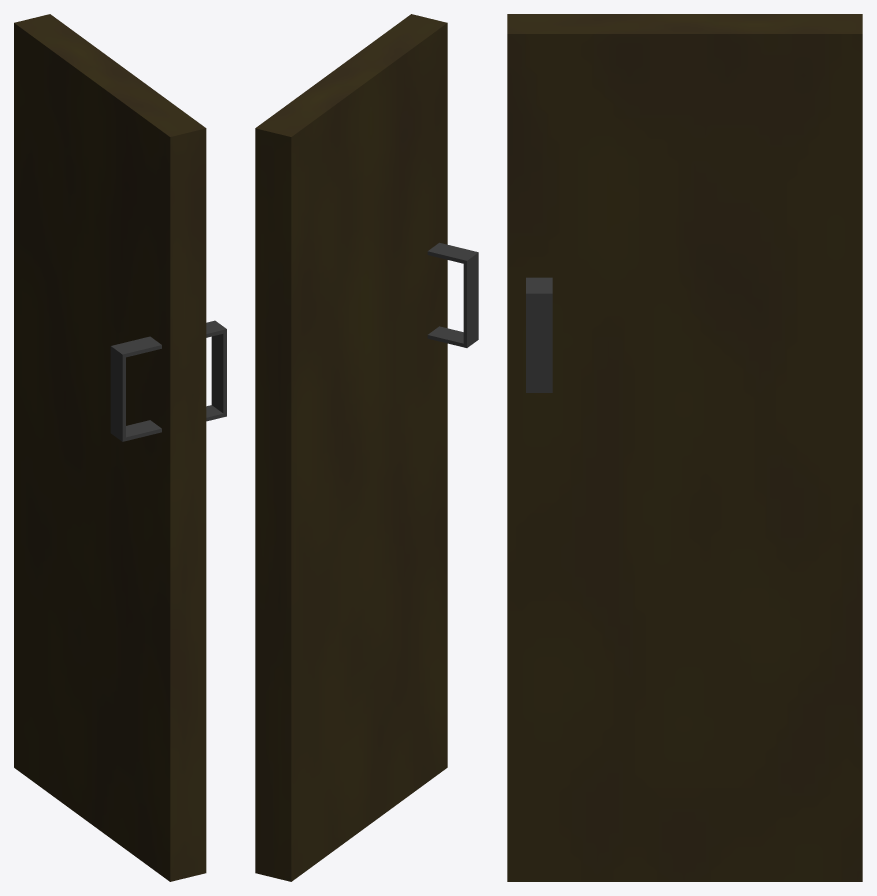
The model's file is Door.fbx.
The picture shows the model from 3 angles, left to right: view 1: azimuth 30°, elevation 25°; view 2: azimuth 150°, elevation 25°; view 3: azimuth 270°, elevation 25°; orthographic projection. The views are drawn at different scales.
Visible parts, largest first — view 1: Door; view 2: Door; view 3: Door.
Boxes of the visible parts, <box> form: Door: <box>14,14,226,881</box>; Door: <box>255,14,478,881</box>; Door: <box>507,14,862,881</box>.
Size of the model in its own units: 143 by 977 by 371.
